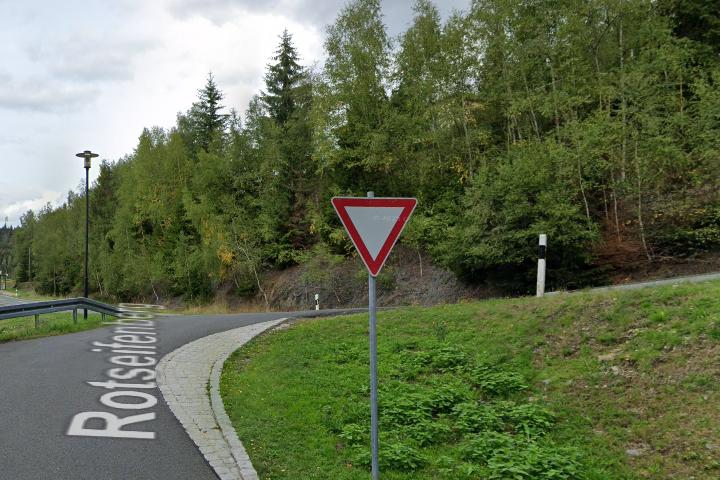traffic_sign: (330, 195, 418, 278)
